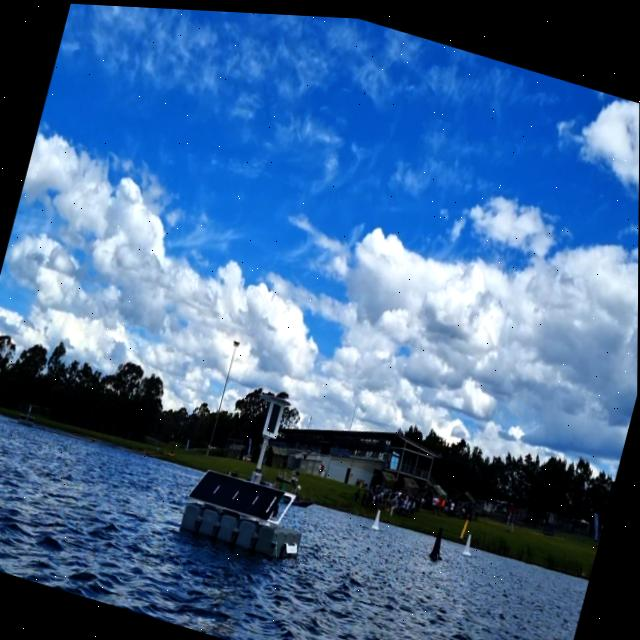led: (264, 397, 285, 435)
